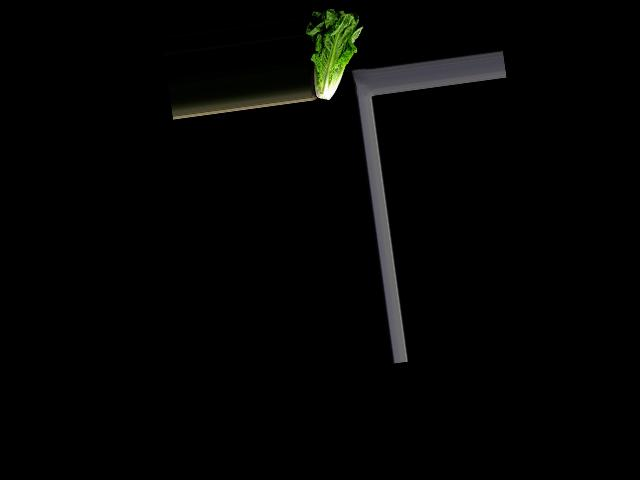lettuce: (302, 3, 371, 102)
